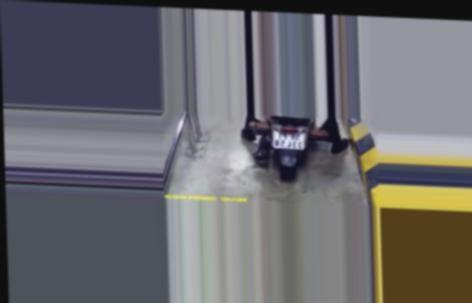License_Plate: (270, 128, 309, 152)
